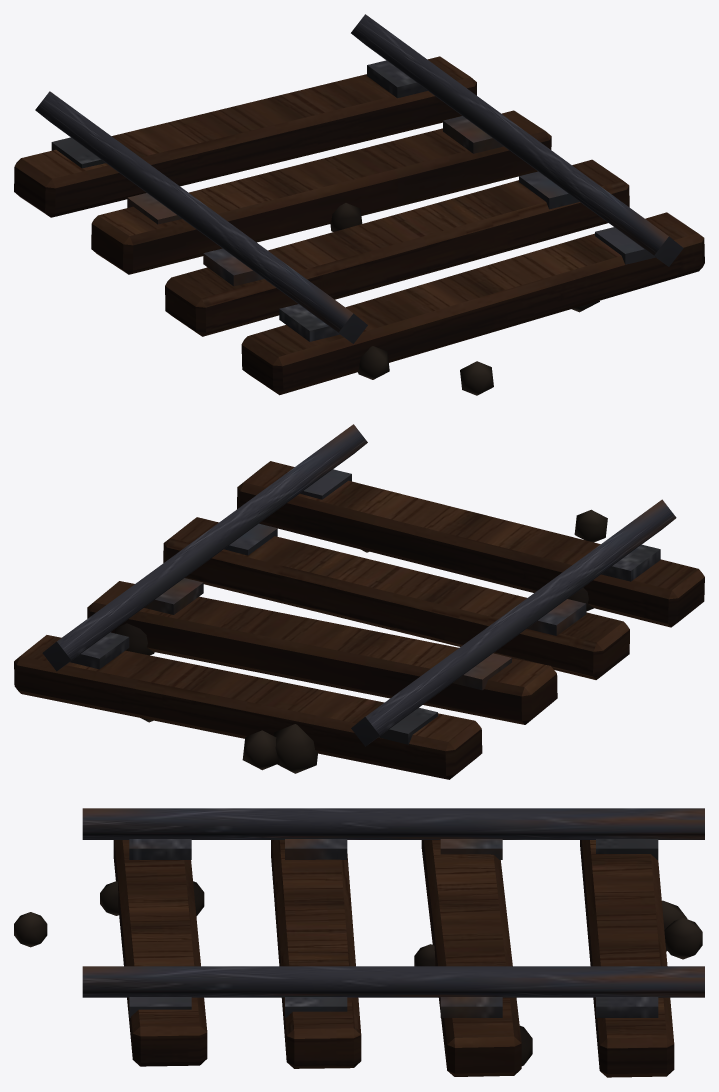
The model's file is nidavellir_rail.glb.
3 renders of one model, top to bottom at view 1: azimuth 30°, elevation 25°; view 2: azimuth 150°, elevation 25°; view 3: azimuth 270°, elevation 25°, orthographic. The views are drawn at different scales.
Parts seen in each view (by area): view 1: nidavellir_rail; view 2: nidavellir_rail; view 3: nidavellir_rail.
Part boxes in pixels (x1,y1,x2,y2): nidavellir_rail: [14, 14, 704, 395]; nidavellir_rail: [14, 424, 704, 779]; nidavellir_rail: [14, 808, 704, 1077].
Size of the model in its own units: 0.8445 by 0.1745 by 1.11.
Materials: 3 (3 with a texture image).
